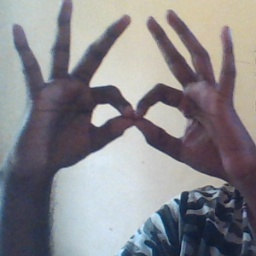B: (77, 75, 195, 155)
